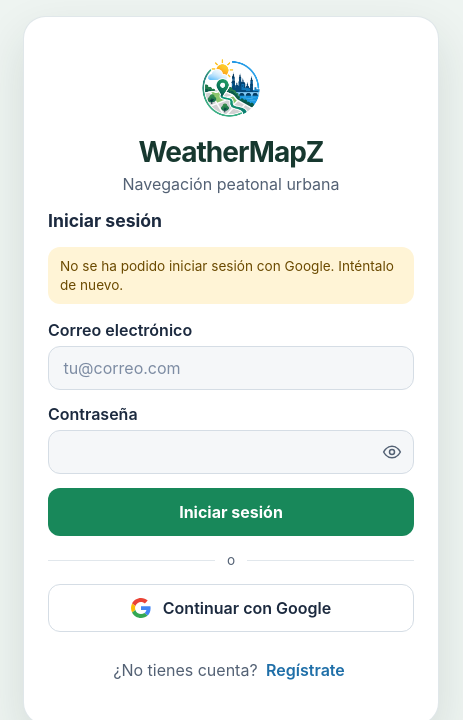
authentication screens › AuthScreen › offers Google login and shows notices from the session
Expected: the message shows "Google", x1=60 y1=258 x2=394 y2=293
Step 1. Click the button "Regístrate" → (305, 670), box x1=262 y1=648 x2=349 y2=692
(page scrolled)
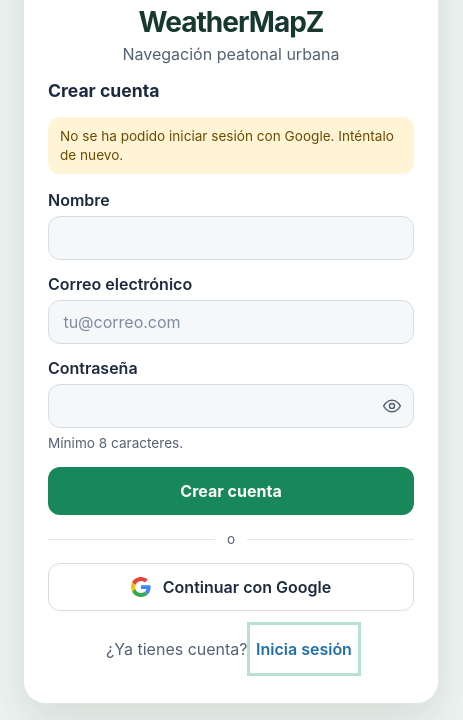
Step 2. Click the button "Inicia sesión" → (304, 649), box x1=252 y1=627 x2=356 y2=671
(page scrolled)
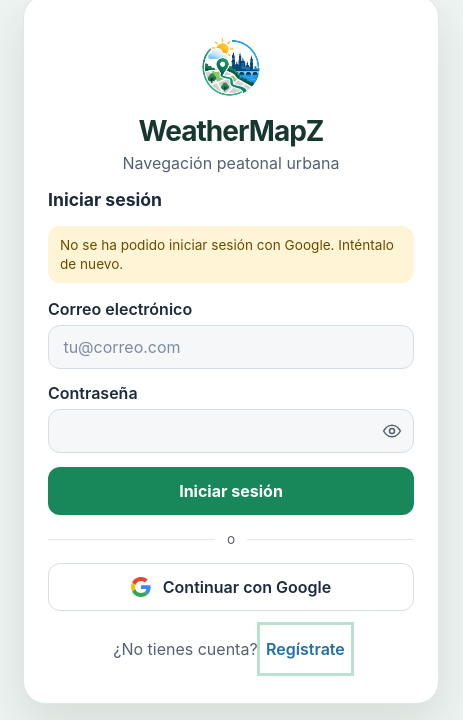
Now the heading "Iniciar sesión" is shown, box x1=48 y1=189 x2=162 y2=210
